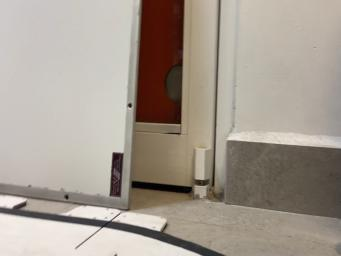street: (0, 208, 222, 255), (0, 208, 222, 255), (0, 208, 222, 255), (0, 208, 222, 255), (0, 208, 222, 255), (43, 236, 45, 237), (43, 236, 45, 237), (43, 236, 45, 237), (43, 236, 45, 237), (43, 236, 45, 237)
